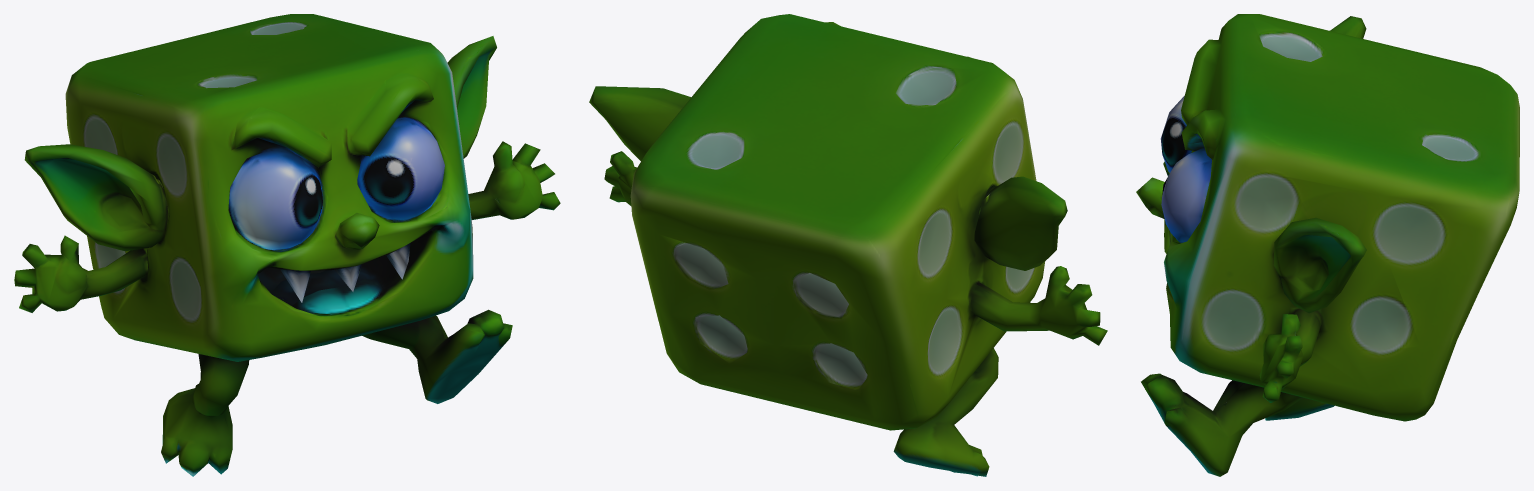
The model's file is Q_enemy_02.glb.
3 renders of one model, left to right at view 1: azimuth 30°, elevation 25°; view 2: azimuth 150°, elevation 25°; view 3: azimuth 270°, elevation 25°, orthographic.
Parts seen in each view (by area): view 1: Prp_Oth_QuackEnemy02_Lod0; view 2: Prp_Oth_QuackEnemy02_Lod0; view 3: Prp_Oth_QuackEnemy02_Lod0.
Part boxes in pixels (x1=…): Prp_Oth_QuackEnemy02_Lod0: x1=14, y1=14, x2=560, y2=476; Prp_Oth_QuackEnemy02_Lod0: x1=589, y1=14, x2=1107, y2=476; Prp_Oth_QuackEnemy02_Lod0: x1=1136, y1=14, x2=1519, y2=476.
Size of the model in its own units: 0.3228 by 0.2355 by 0.2066.
Materials: 1 (1 with a texture image).
